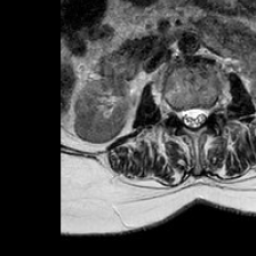CCS_normal: (188, 96, 199, 137)
LFS_stenosis: (208, 92, 215, 123)
LLS_normal: (199, 96, 208, 132)
RFS_stenosis: (170, 95, 179, 126)
RLS_normal: (179, 97, 188, 132)
